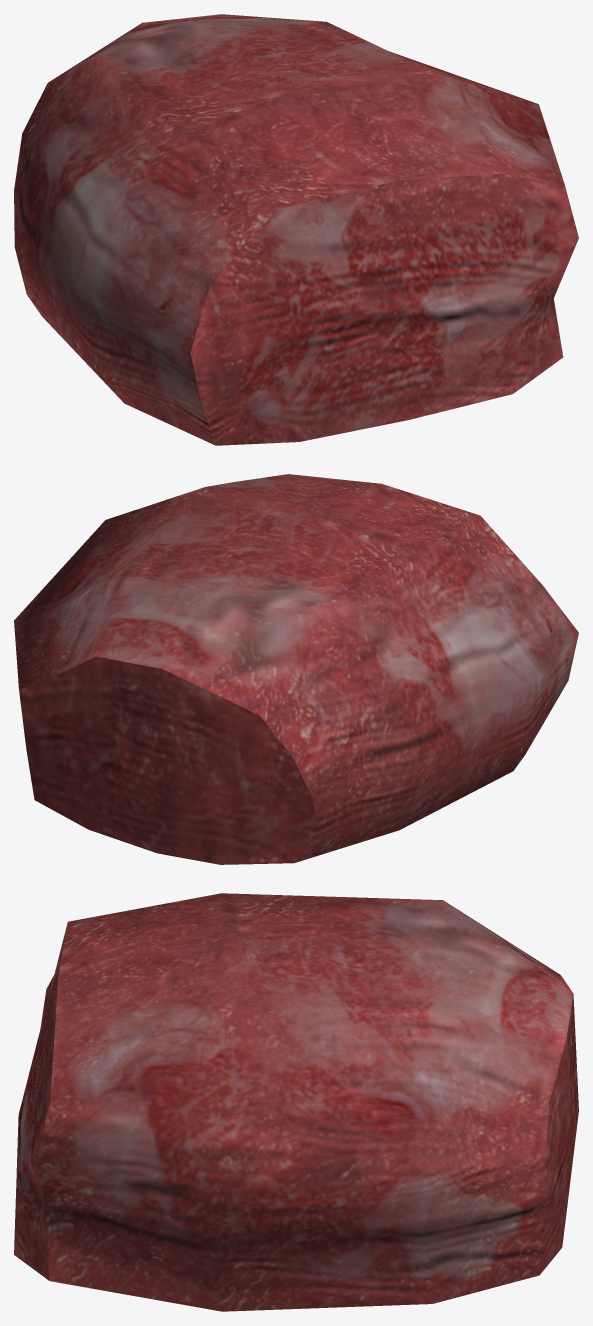
Rendered from niurou.FBX.
The picture shows the model from 3 angles, top to bottom: view 1: azimuth 30°, elevation 25°; view 2: azimuth 150°, elevation 25°; view 3: azimuth 270°, elevation 25°; orthographic projection. The views are drawn at different scales.
Parts seen in each view (by area): view 1: Box01; view 2: Box01; view 3: Box01.
Boxes of the visible parts, bbox=[...] form: Box01: bbox=[14, 14, 578, 445]; Box01: bbox=[14, 474, 578, 864]; Box01: bbox=[14, 893, 578, 1311].
Bounding box in the file's own units: 31.54 × 19.18 × 31.17.
